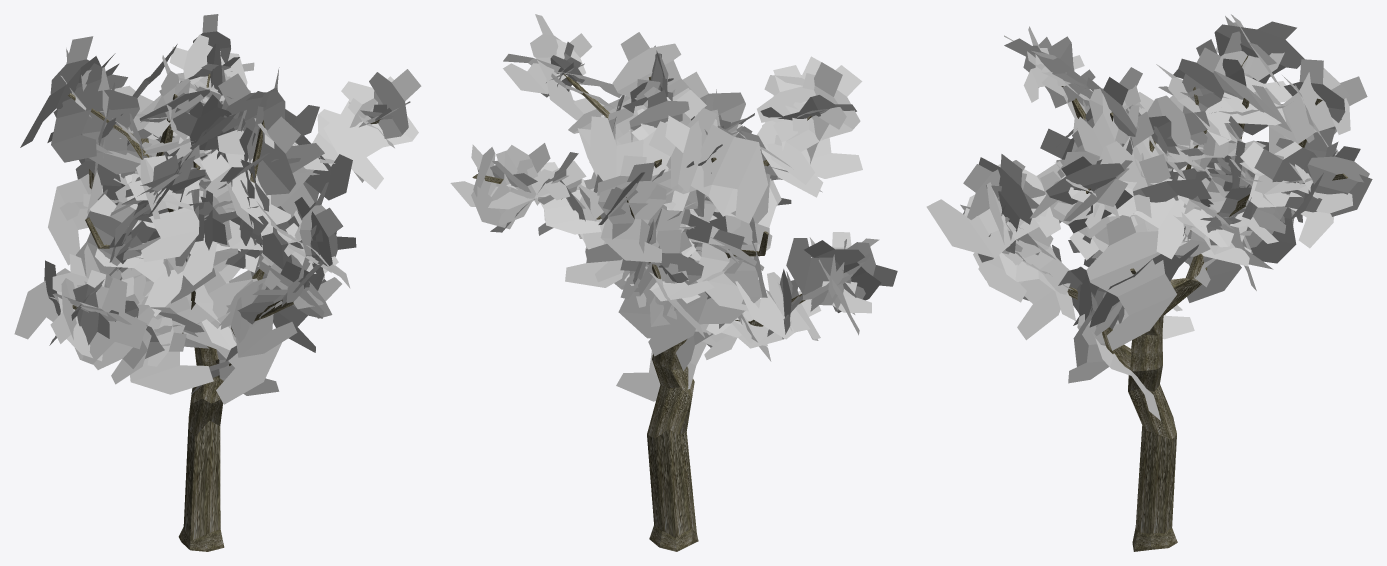
The model's file is Tree02.fbx.
3 views of the same model, side by side, from view 1: azimuth 30°, elevation 25°; view 2: azimuth 150°, elevation 25°; view 3: azimuth 270°, elevation 25° (orthographic). The views are drawn at different scales.
Visible parts, largest first — view 1: arbol003.007; view 2: arbol003.007; view 3: arbol003.007.
Part boxes in pixels (<box>): arbol003.007: <box>14,14,421,551</box>; arbol003.007: <box>450,14,897,551</box>; arbol003.007: <box>926,14,1372,551</box>.
Bounding box in the file's own units: 13.82 × 16.83 × 13.67.
